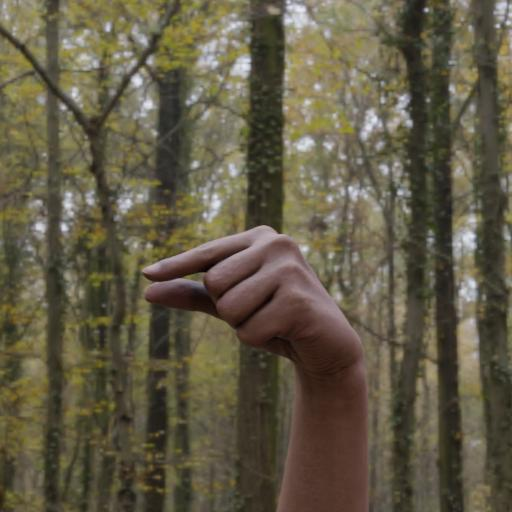G: (122, 198, 406, 422)
